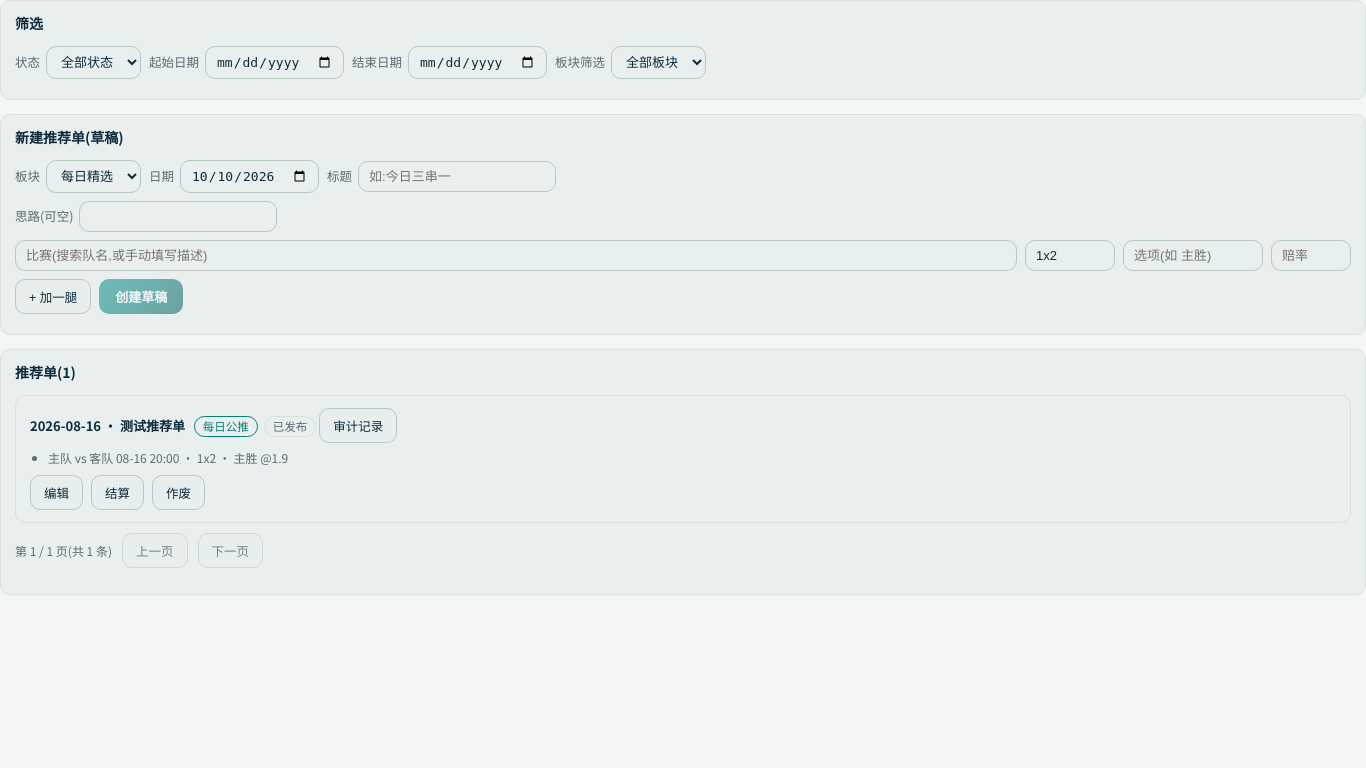
Test: 每日公推板块(2026-09 新增) › 已发布的公推单编辑面板里板块选择器被禁用
The image size is (1366, 768).
Expected: the text "2026-08-16 · 测试推荐单" is shown, left=30, top=416, right=185, bottom=435
Click the button "编辑" at (56, 492), box left=30, top=475, right=83, bottom=510
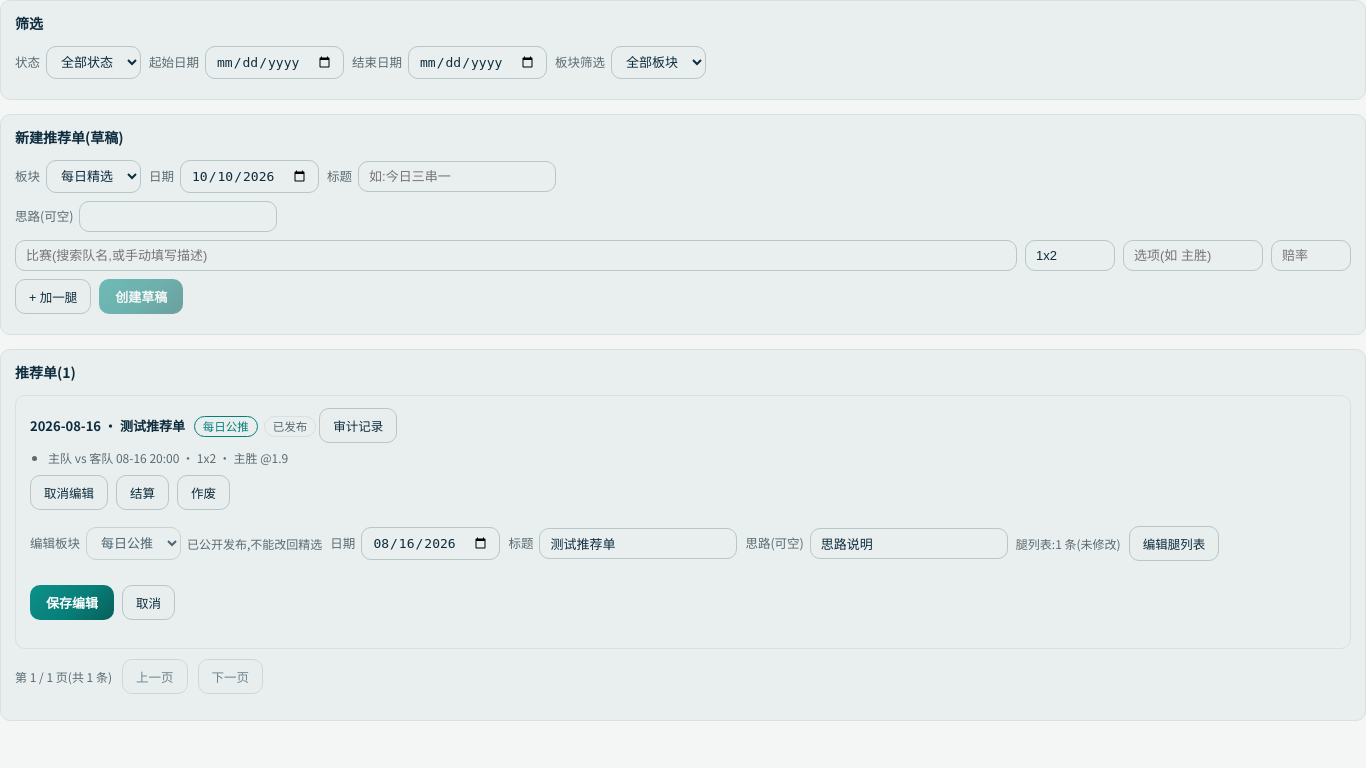
Expected: the dropdown labelled "编辑板块" is disabled, left=86, top=527, right=181, bottom=560
Expected: the text "已公开发布,不能改回精选" is shown, left=187, top=534, right=322, bottom=552
